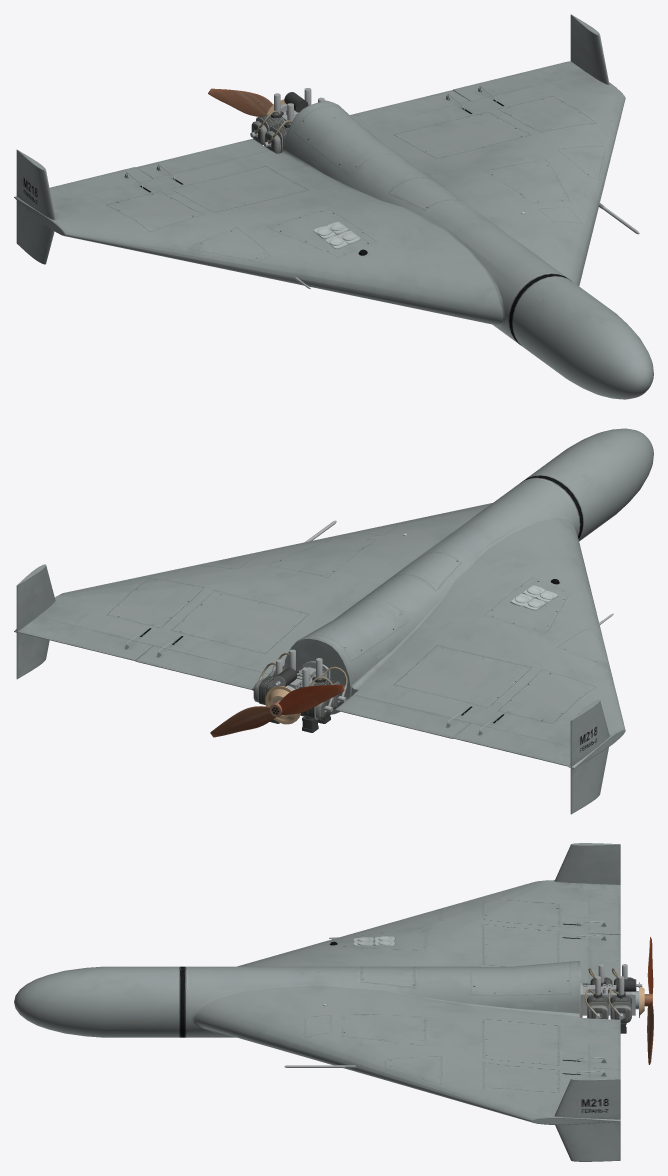
File: geranium.glb
3 renders of one model, top to bottom at view 1: azimuth 30°, elevation 25°; view 2: azimuth 150°, elevation 25°; view 3: azimuth 270°, elevation 25°, orthographic. The views are drawn at different scales.
Parts seen in each view (by area): view 1: defaultMaterial; view 2: defaultMaterial; view 3: defaultMaterial.
Boxes of the visible parts, <box> form: defaultMaterial: <box>14,14,653,399</box>; defaultMaterial: <box>14,428,653,814</box>; defaultMaterial: <box>14,843,653,1161</box>.
Bounding box in the file's own units: 2.41 × 0.3881 × 2.75.
1 material, 1 textured.
